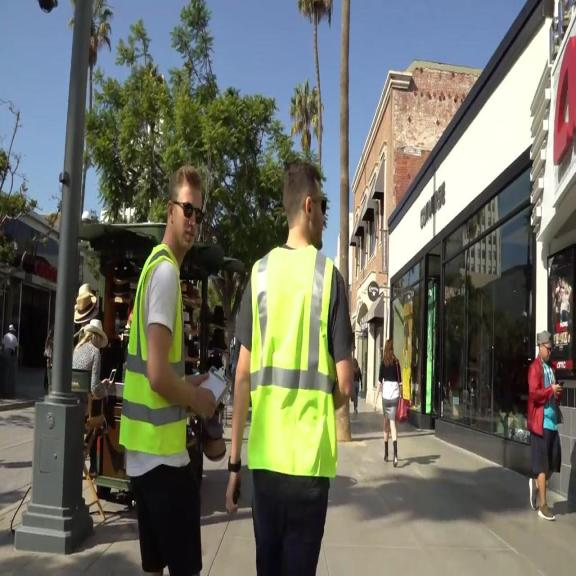safety_vest: (246, 243, 336, 480), (116, 244, 187, 456)
